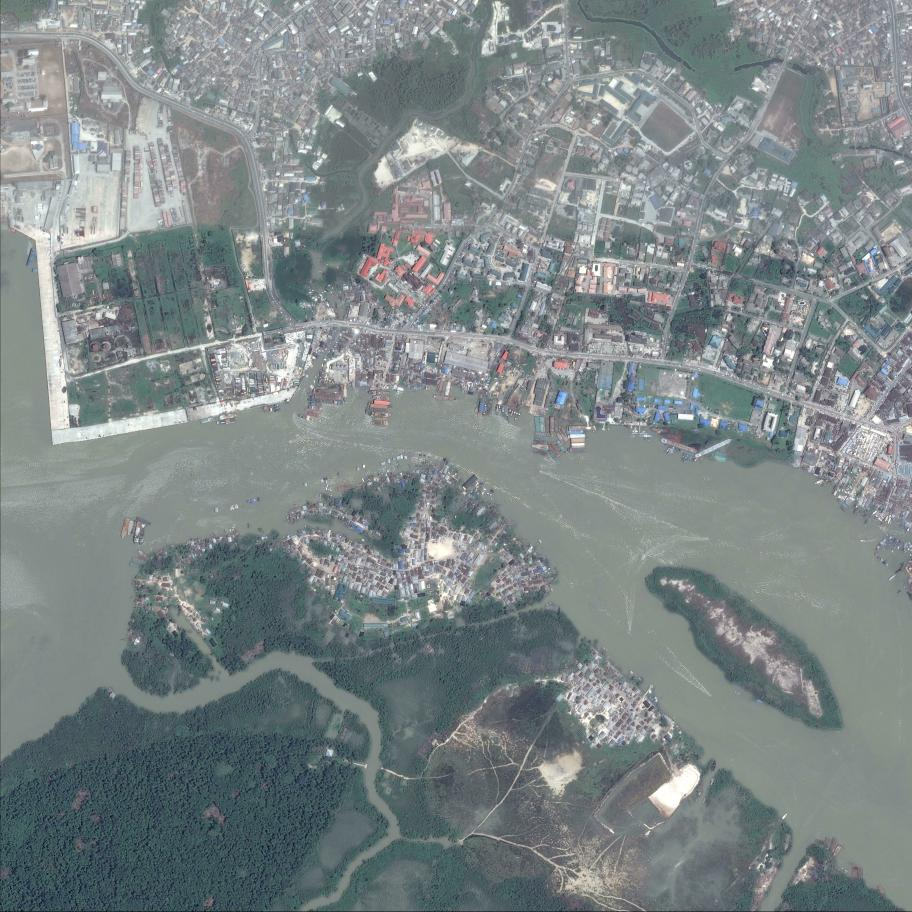large-vehicle: (272, 244, 279, 247), (268, 237, 270, 244)
ship: (694, 437, 733, 459), (658, 437, 699, 455), (315, 392, 343, 401), (547, 440, 561, 458), (138, 523, 148, 546), (133, 521, 142, 546), (696, 438, 710, 454), (120, 517, 130, 539), (548, 449, 561, 465), (557, 425, 569, 442), (531, 448, 550, 457), (135, 516, 152, 526), (556, 439, 567, 454), (836, 498, 849, 510), (552, 441, 563, 455), (305, 415, 322, 424), (324, 398, 343, 406), (485, 400, 494, 416), (555, 431, 565, 445), (368, 390, 391, 396), (216, 418, 235, 425), (477, 401, 485, 417), (830, 482, 839, 496), (304, 408, 322, 415), (219, 413, 237, 420), (534, 416, 541, 433), (200, 417, 217, 424), (534, 435, 551, 442), (539, 416, 546, 432), (127, 520, 134, 536), (650, 427, 668, 433), (374, 412, 392, 418), (370, 420, 388, 426), (370, 403, 388, 409), (372, 395, 390, 401), (894, 566, 905, 575), (374, 400, 390, 406), (856, 511, 865, 521), (874, 514, 884, 523), (531, 440, 549, 445), (308, 405, 323, 411), (131, 520, 137, 535), (663, 449, 674, 457), (685, 443, 702, 448), (550, 416, 555, 433), (869, 509, 878, 518), (370, 387, 386, 392), (887, 574, 897, 582), (545, 418, 550, 434), (532, 444, 548, 449), (692, 456, 705, 462), (683, 453, 696, 459), (664, 443, 675, 450), (711, 760, 717, 772), (308, 398, 322, 403), (308, 401, 322, 406), (814, 479, 825, 485), (328, 384, 339, 390), (308, 412, 319, 418), (374, 408, 387, 413), (372, 417, 388, 421), (554, 417, 558, 433), (535, 432, 547, 437), (638, 434, 653, 438), (851, 502, 859, 509), (781, 813, 788, 821), (839, 505, 846, 513), (862, 512, 869, 520), (662, 436, 676, 440), (495, 404, 500, 415), (666, 449, 675, 455), (297, 414, 306, 420), (330, 292, 339, 298), (395, 389, 404, 395), (509, 409, 515, 418), (681, 457, 691, 462), (339, 384, 344, 394), (863, 518, 869, 526), (343, 385, 347, 397), (316, 389, 328, 393), (682, 456, 691, 461), (315, 386, 326, 390), (9, 227, 16, 233), (861, 510, 866, 518), (905, 527, 910, 535), (396, 387, 404, 392), (332, 304, 337, 312), (318, 256, 323, 264), (756, 699, 764, 704), (887, 517, 892, 525), (315, 285, 319, 294), (339, 294, 343, 303), (323, 287, 329, 293), (682, 455, 691, 459), (848, 500, 854, 506), (845, 498, 851, 504), (846, 499, 852, 505), (312, 279, 318, 285), (310, 278, 316, 284), (274, 408, 281, 413), (668, 447, 675, 452), (678, 448, 685, 453), (318, 262, 325, 267), (681, 459, 689, 463), (307, 392, 315, 396), (313, 386, 317, 394), (822, 479, 827, 485), (888, 513, 893, 519), (849, 496, 855, 501), (844, 497, 849, 503), (273, 406, 280, 410), (818, 481, 823, 486), (900, 562, 905, 567), (710, 780, 714, 786), (710, 777, 714, 783), (502, 406, 505, 414), (383, 383, 387, 389), (644, 438, 652, 441), (273, 404, 279, 408), (508, 408, 512, 414), (515, 411, 519, 417), (860, 539, 867, 542), (513, 410, 516, 417), (311, 386, 315, 391), (841, 497, 845, 502), (840, 496, 844, 501), (839, 495, 843, 500), (593, 425, 597, 430), (475, 481, 480, 485), (513, 417, 517, 422), (394, 392, 400, 395), (393, 384, 396, 390), (632, 430, 638, 433), (337, 314, 340, 320), (367, 400, 373, 403), (652, 431, 661, 433), (518, 411, 521, 417), (309, 395, 315, 398), (336, 311, 338, 319), (837, 495, 841, 499), (816, 478, 824, 480), (309, 384, 313, 388), (897, 546, 901, 550), (842, 498, 846, 502), (838, 495, 842, 499), (335, 302, 337, 309), (470, 490, 473, 494), (484, 488, 487, 492), (821, 484, 827, 486), (475, 483, 478, 487), (334, 392, 339, 394), (641, 431, 646, 433), (900, 563, 902, 568), (481, 492, 484, 495), (482, 487, 485, 490), (907, 548, 910, 551), (901, 565, 904, 568), (838, 489, 841, 492), (389, 406, 393, 408), (311, 385, 313, 389), (311, 365, 313, 369), (837, 489, 839, 492), (489, 494, 492, 496), (476, 486, 479, 488), (309, 292, 312, 293)
storage-tank: (91, 354, 102, 362), (103, 343, 110, 351), (92, 344, 99, 351)
